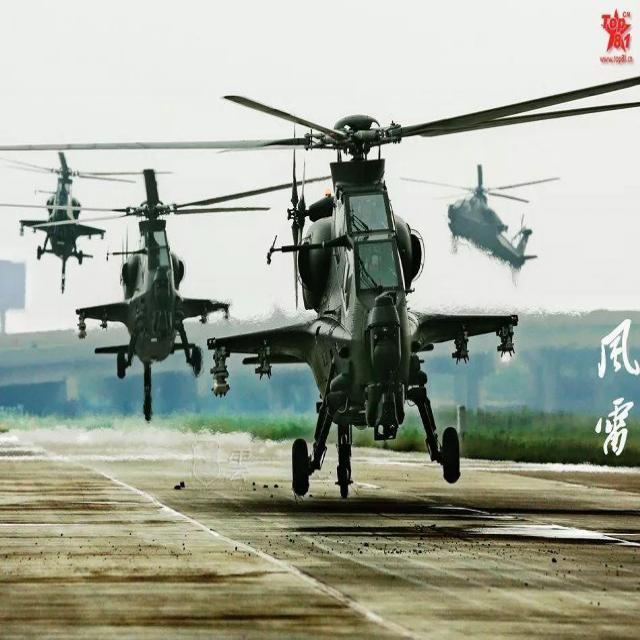MIL_HELO: (158, 74, 640, 513), (27, 159, 296, 449), (390, 143, 570, 272)
